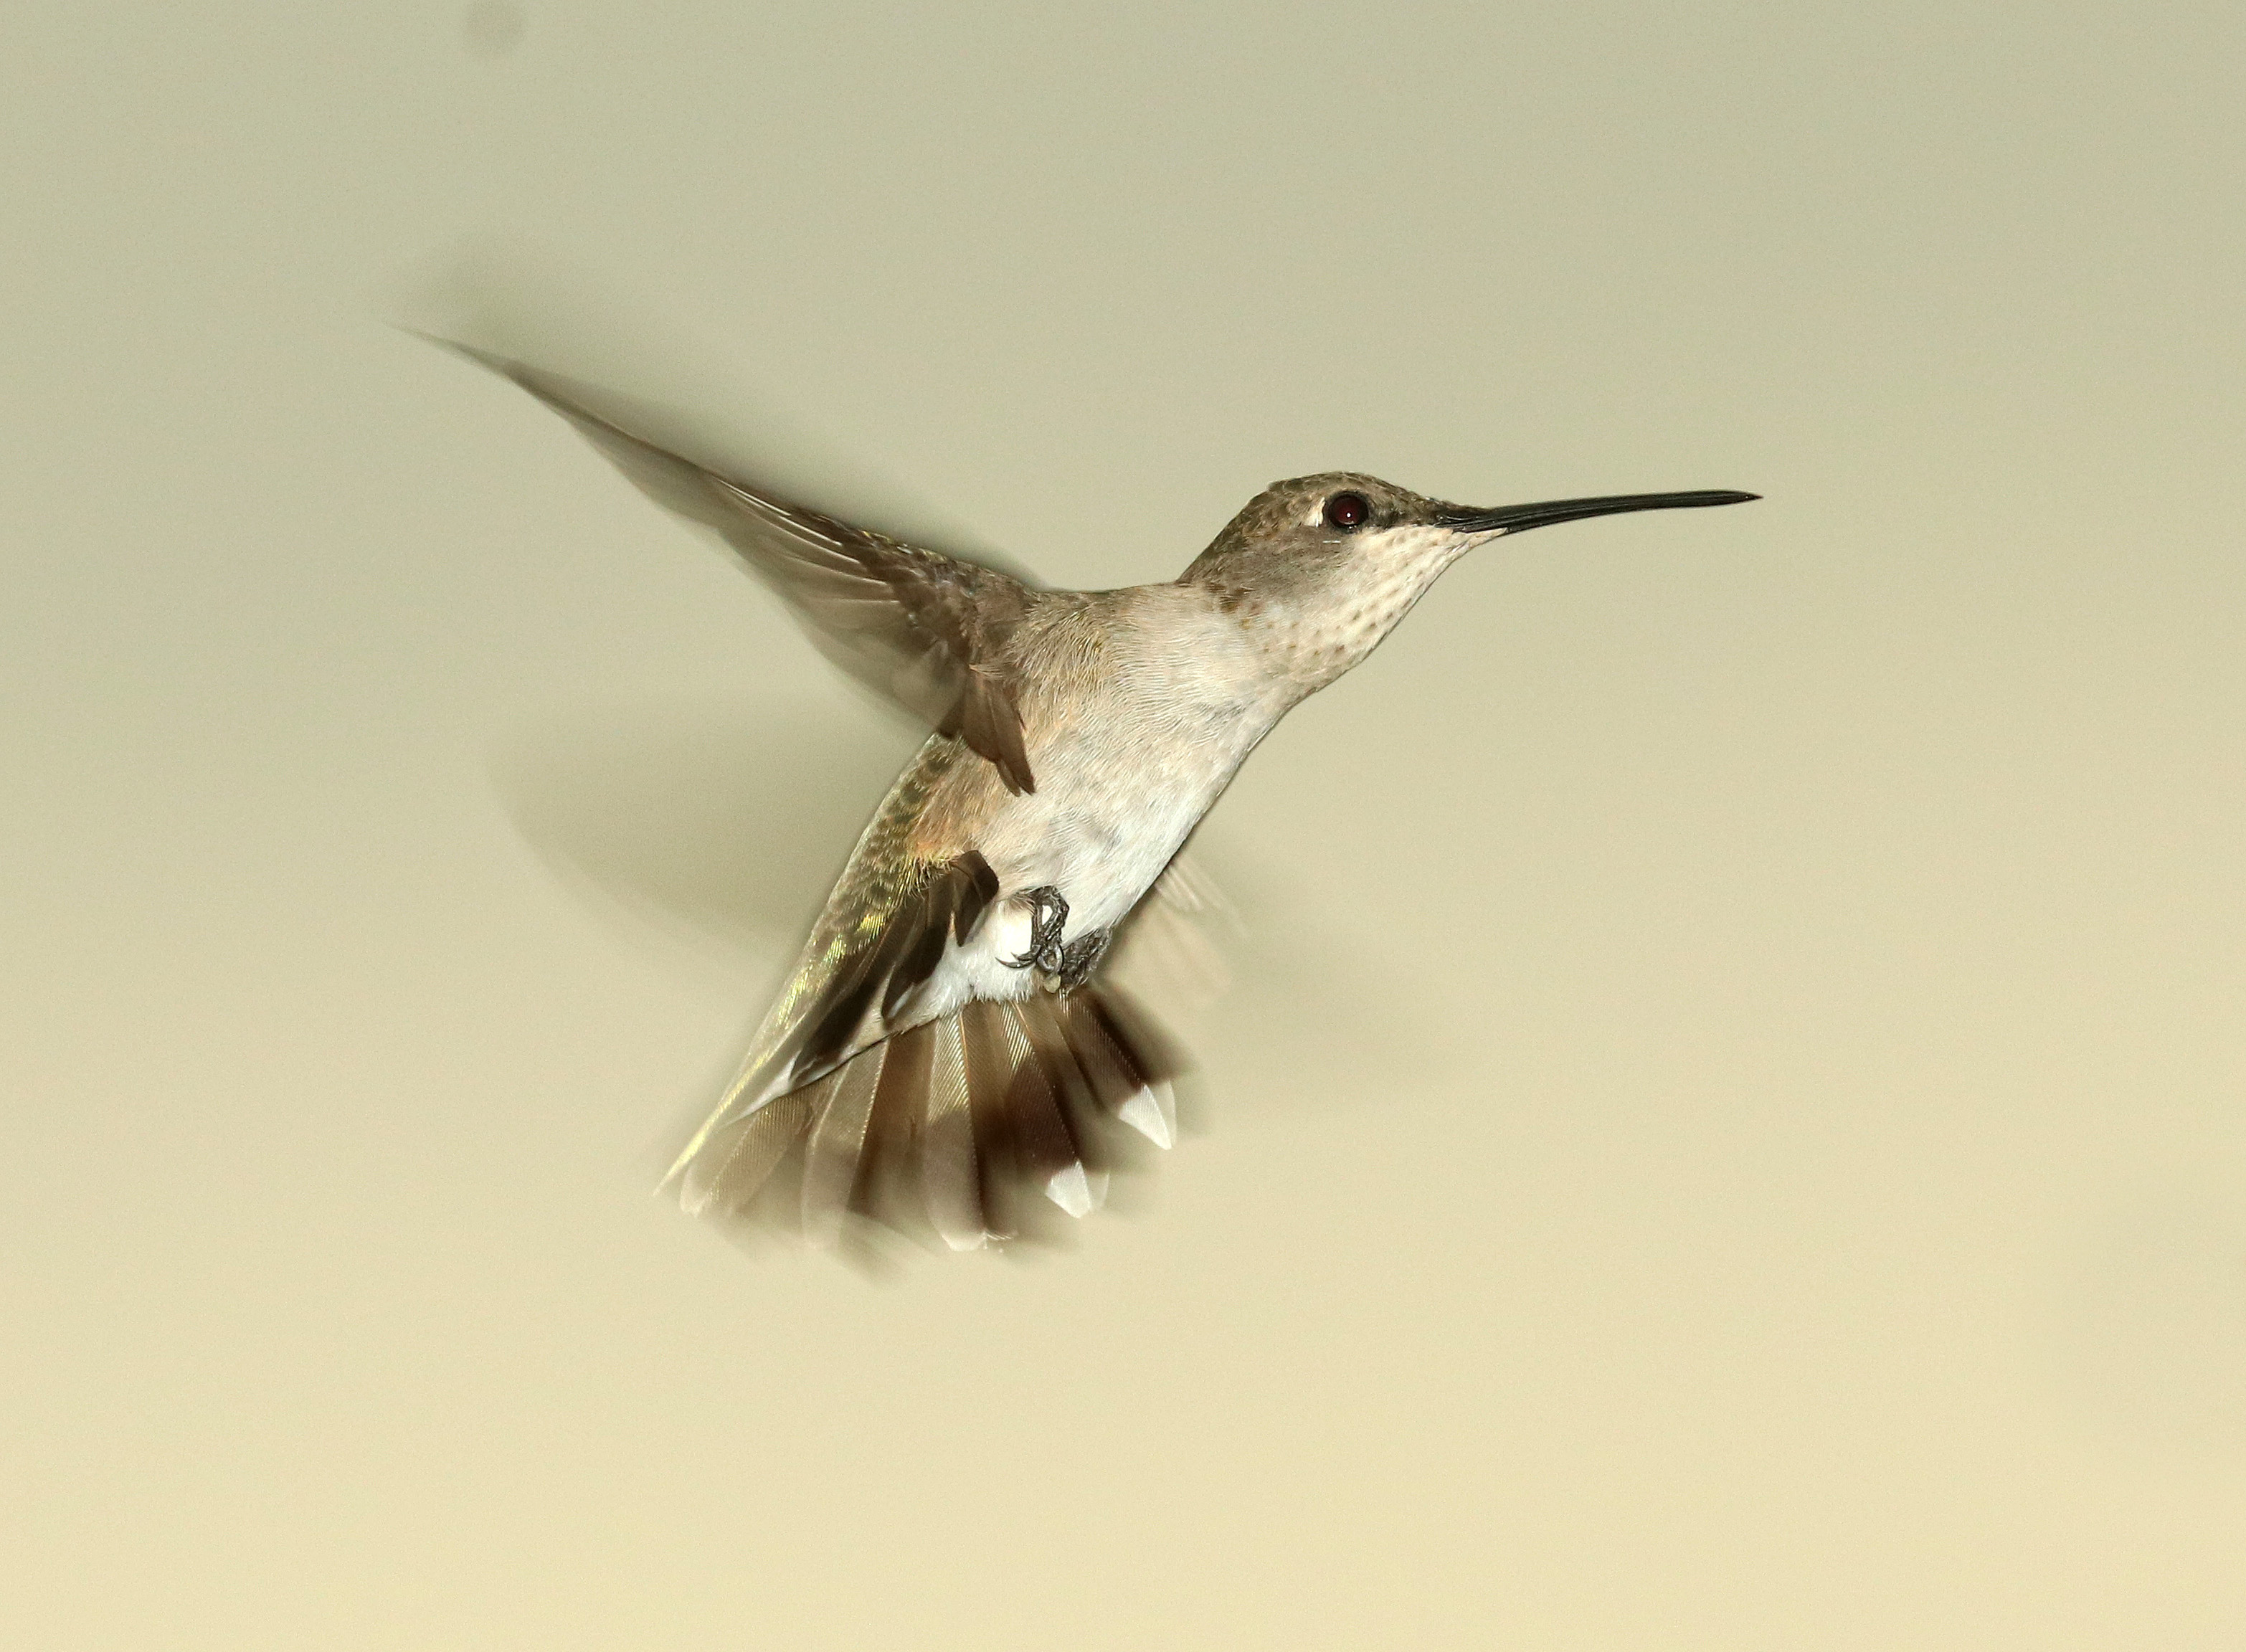archilochus alexandri: (478, 389, 1763, 1253)
